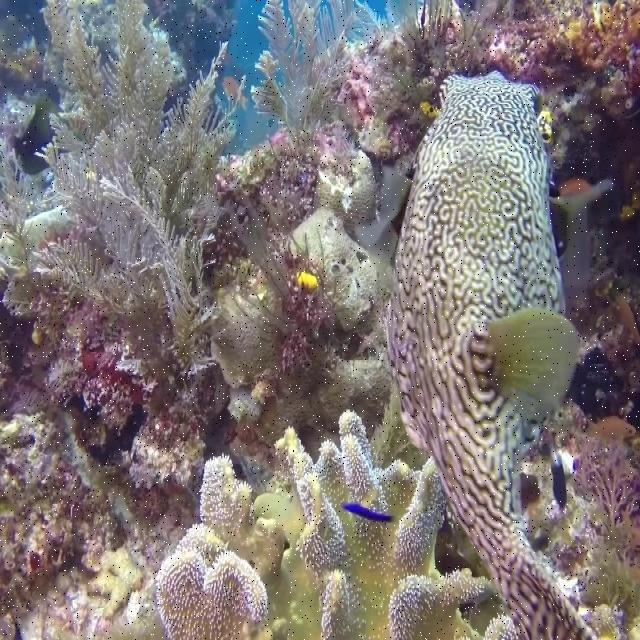aquatic plants: (0, 0, 247, 370), (251, 1, 357, 155), (354, 0, 453, 111)
fish: (387, 68, 598, 636)
reefs: (100, 409, 519, 637)
